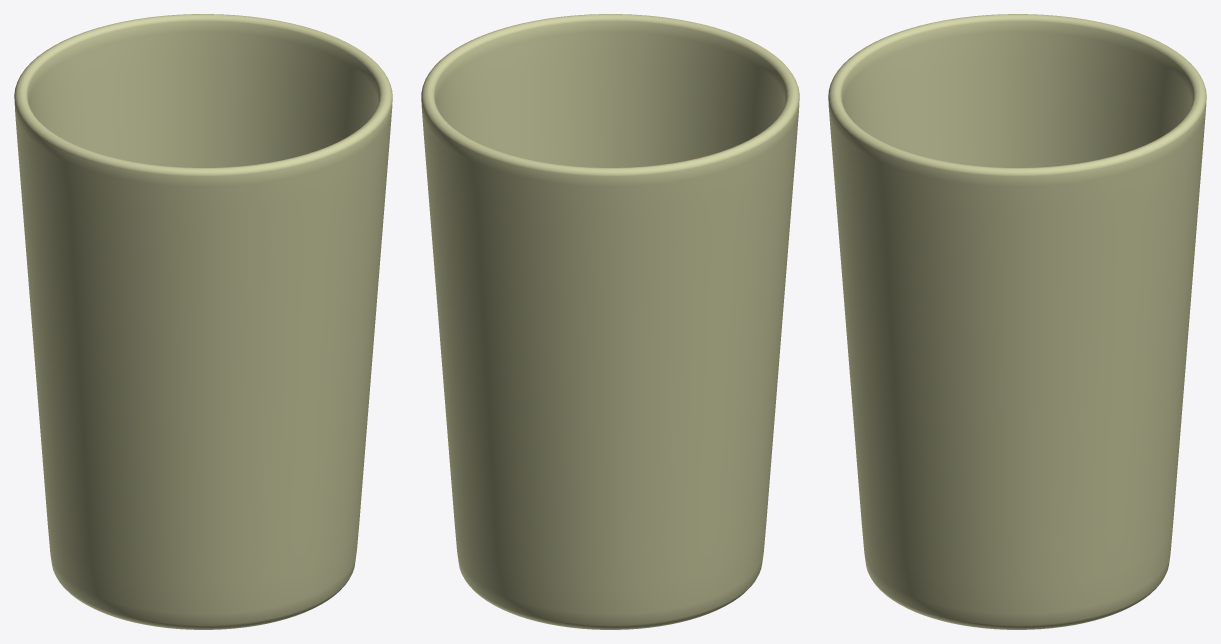
The model's file is water.fbx.
The picture shows the model from 3 angles, left to right: view 1: azimuth 30°, elevation 25°; view 2: azimuth 150°, elevation 25°; view 3: azimuth 270°, elevation 25°; orthographic projection.
Parts seen in each view (by area): view 1: Dishes.004; view 2: Dishes.004; view 3: Dishes.004.
Boxes of the visible parts, x1,y1,x2,y2 form: Dishes.004: (14, 14, 392, 629); Dishes.004: (421, 14, 799, 629); Dishes.004: (828, 14, 1206, 629).
Bounding box in the file's own units: 31.03 × 43.56 × 31.03.
